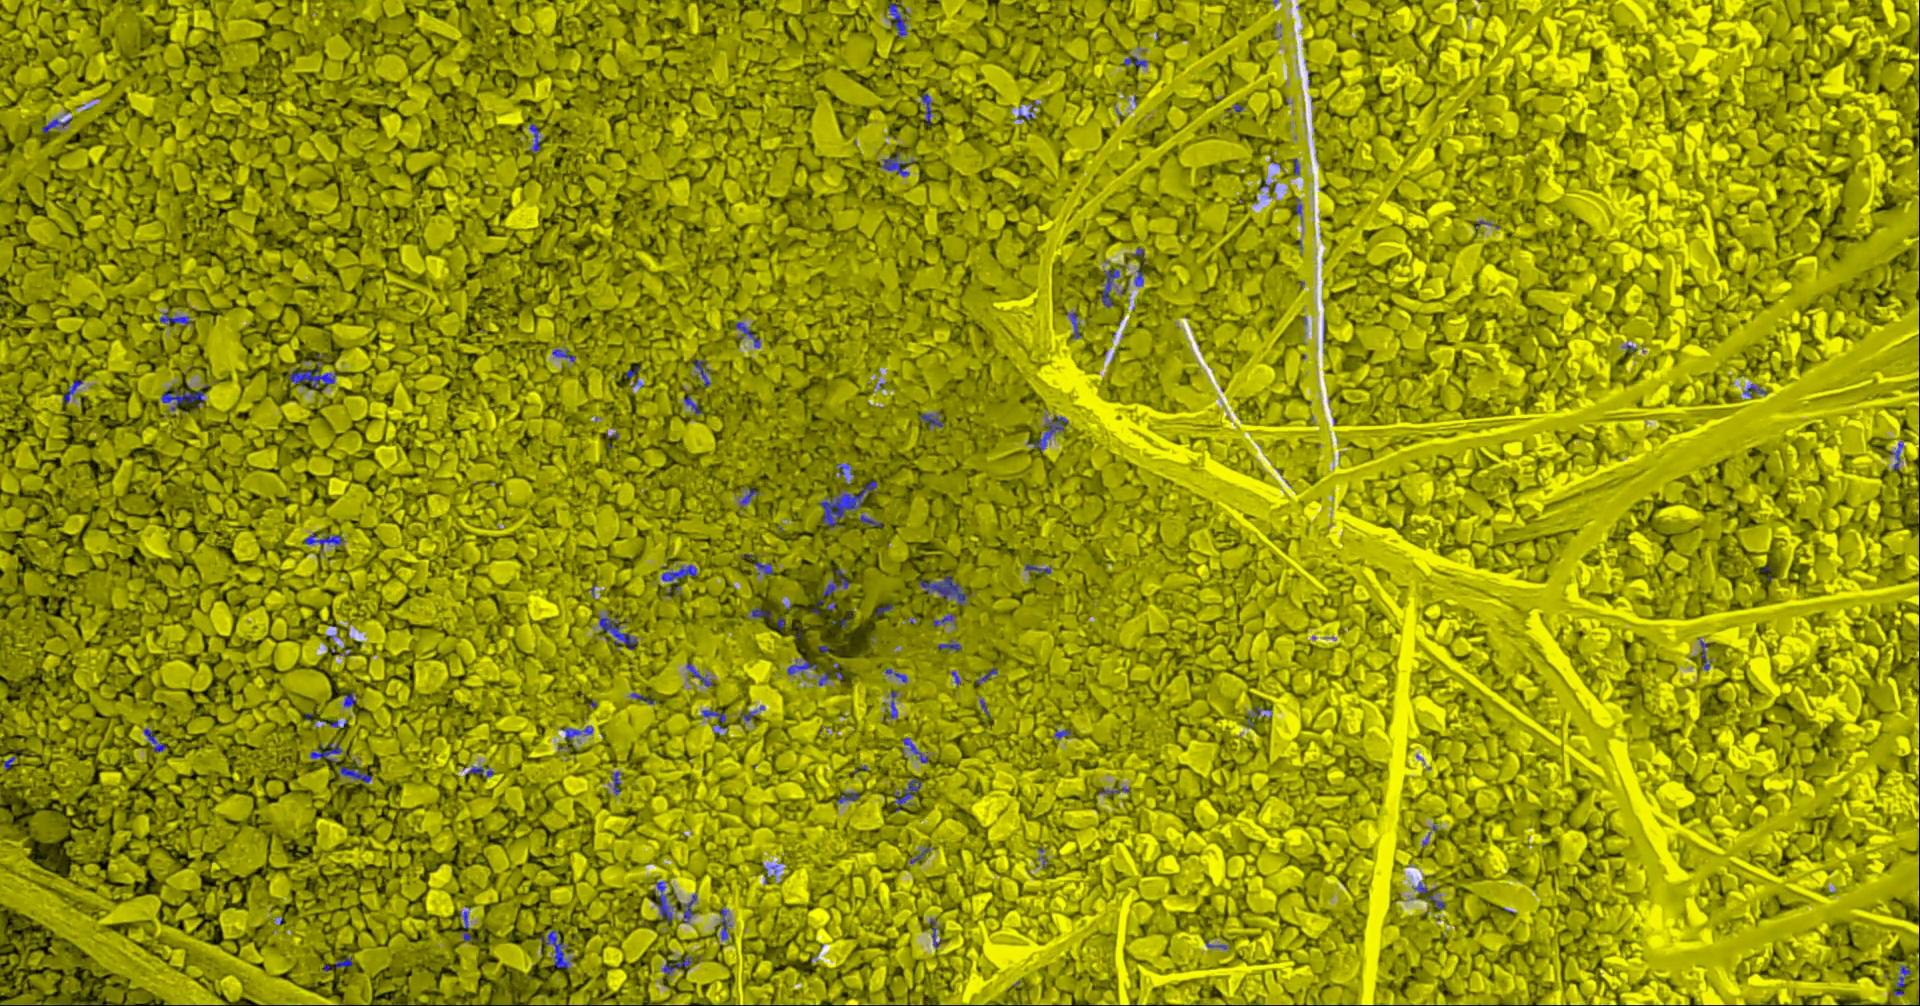ant: (819, 479, 877, 526), (919, 575, 968, 605), (598, 617, 637, 649), (817, 568, 848, 605), (1032, 417, 1067, 450), (540, 929, 568, 968), (288, 365, 335, 387), (161, 387, 204, 410), (894, 779, 919, 810), (653, 882, 672, 923), (880, 151, 908, 177), (458, 904, 477, 941), (1101, 268, 1119, 307), (740, 553, 772, 574), (303, 532, 344, 549), (662, 564, 696, 583), (734, 321, 759, 347), (902, 737, 927, 762), (309, 742, 347, 758), (686, 663, 712, 686), (339, 763, 371, 782), (662, 956, 691, 977), (888, 3, 905, 36), (62, 379, 83, 405), (1247, 706, 1271, 728), (1892, 965, 1910, 995), (41, 117, 71, 133), (143, 728, 165, 751), (701, 709, 726, 728), (693, 359, 710, 387), (787, 659, 817, 674), (563, 725, 592, 741), (159, 311, 192, 324), (323, 956, 352, 970), (682, 894, 696, 922), (1065, 311, 1079, 338), (1698, 638, 1709, 669), (975, 667, 997, 683), (1890, 442, 1902, 470), (919, 93, 931, 123), (683, 395, 702, 413), (919, 412, 943, 426), (740, 486, 757, 507), (528, 123, 540, 151), (720, 908, 730, 939), (1743, 384, 1768, 396), (858, 514, 883, 527), (884, 668, 905, 682), (463, 766, 493, 776), (1123, 53, 1145, 66), (937, 639, 961, 650), (932, 614, 954, 626), (1023, 563, 1050, 573), (552, 349, 575, 361), (930, 918, 938, 948), (1427, 895, 1445, 909), (750, 606, 771, 617), (629, 694, 654, 702), (611, 771, 620, 795), (889, 690, 897, 718), (343, 691, 356, 706), (837, 793, 858, 801), (1134, 269, 1143, 285)
